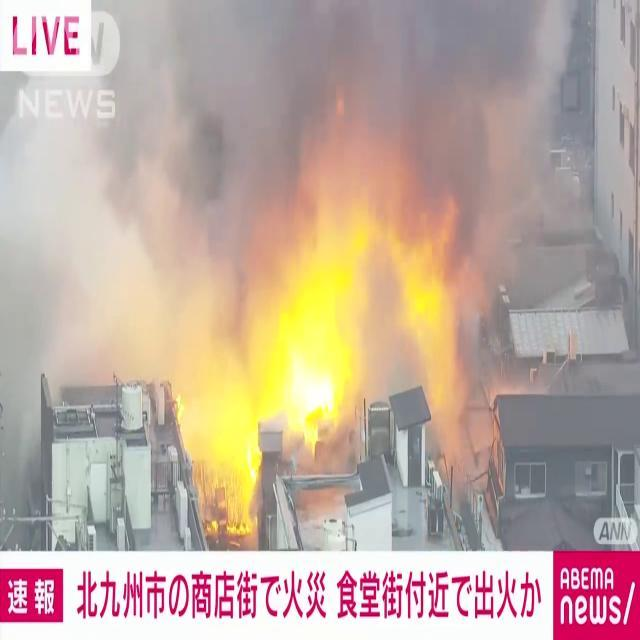Fire: (226, 267, 352, 497)
Smoke: (40, 0, 562, 327)
